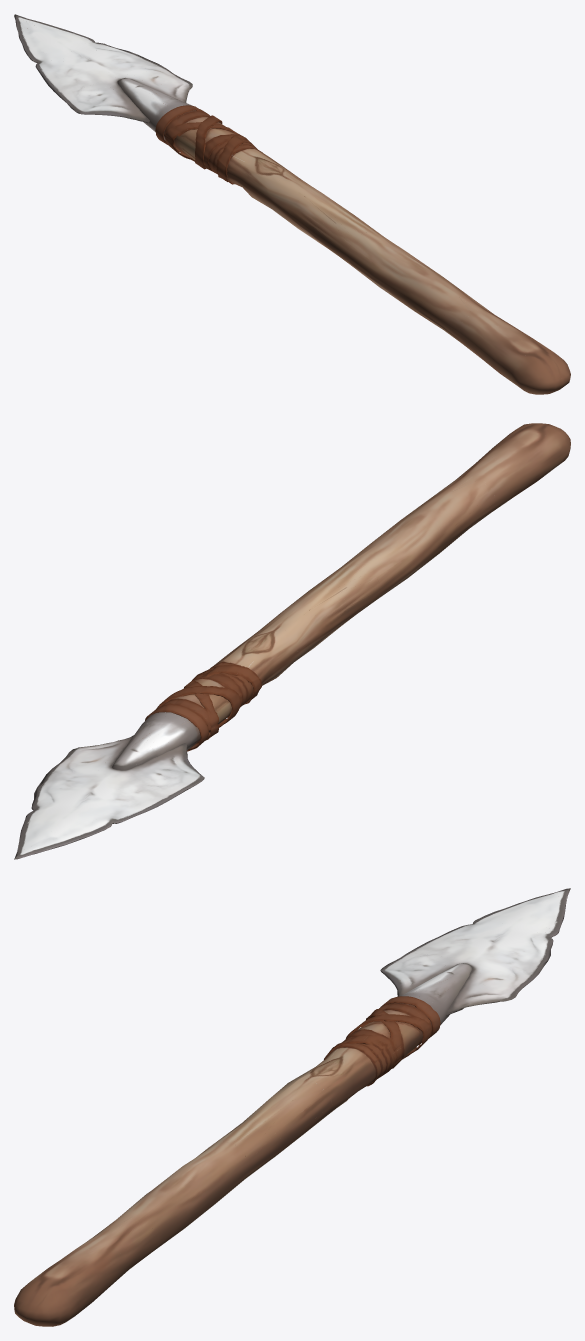
File: Weapon_Spear_Copper.fbx
3 renders of one model, top to bottom at view 1: azimuth 30°, elevation 25°; view 2: azimuth 150°, elevation 25°; view 3: azimuth 330°, elevation 25°, orthographic. The views are drawn at different scales.
Visible parts, largest first — view 1: Weapon_Spear_Copper.001; view 2: Weapon_Spear_Copper.001; view 3: Weapon_Spear_Copper.001.
Part boxes in pixels (bbox=[...]): Weapon_Spear_Copper.001: bbox=[14, 14, 570, 394]; Weapon_Spear_Copper.001: bbox=[14, 423, 570, 859]; Weapon_Spear_Copper.001: bbox=[14, 888, 570, 1326].
Size of the model in its own units: 0.1239 by 0.0425 by 0.95.
